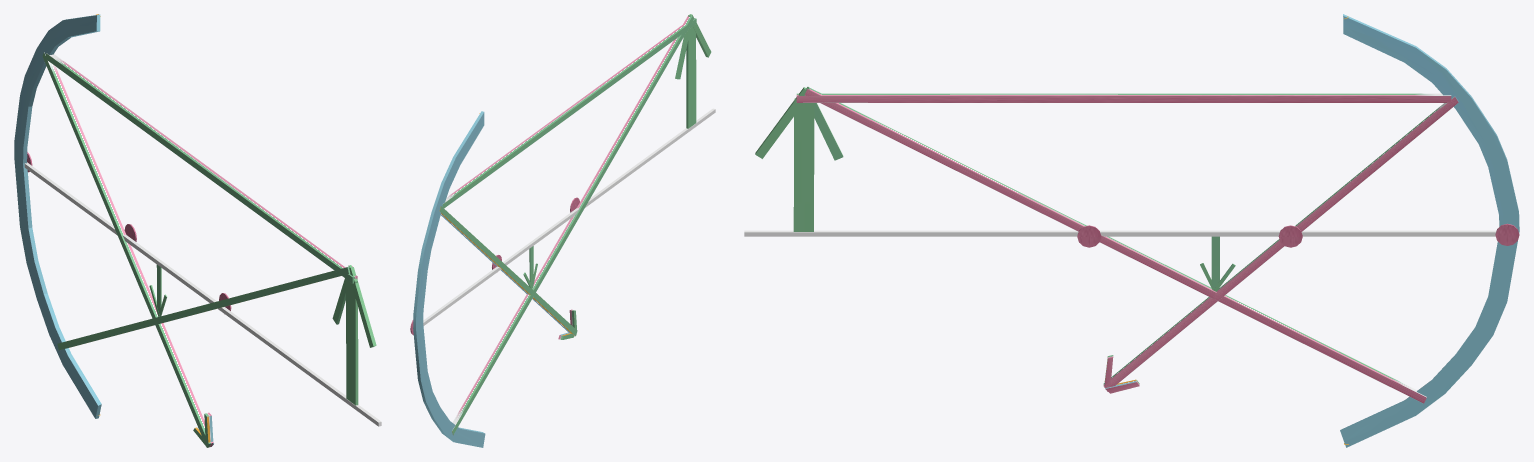
The model's file is case2.fbx.
The picture shows the model from 3 angles, left to right: view 1: azimuth 30°, elevation 25°; view 2: azimuth 150°, elevation 25°; view 3: azimuth 270°, elevation 25°; orthographic projection. The views are drawn at different scales.
Visible parts, largest first — view 1: case2; view 2: case2; view 3: case2.
Boxes of the visible parts, x1,y1,x2,y2 form: case2: [14, 14, 381, 447]; case2: [410, 14, 715, 447]; case2: [744, 14, 1519, 447].
Bounding box in the file's own units: 1.02 × 38.58 × 62.71.
Materials: 1 (1 with a texture image).
